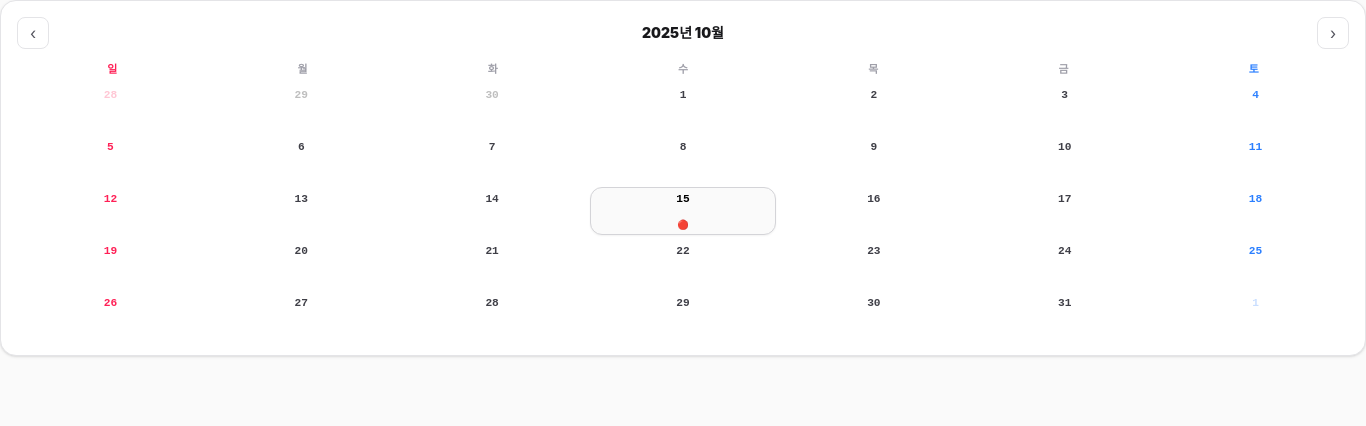
Test case: TradeCalendar › navigates months when clicking next/prev month buttons
Click the button named "다음 달": x=1333, y=33 [1317,17,1349,49]
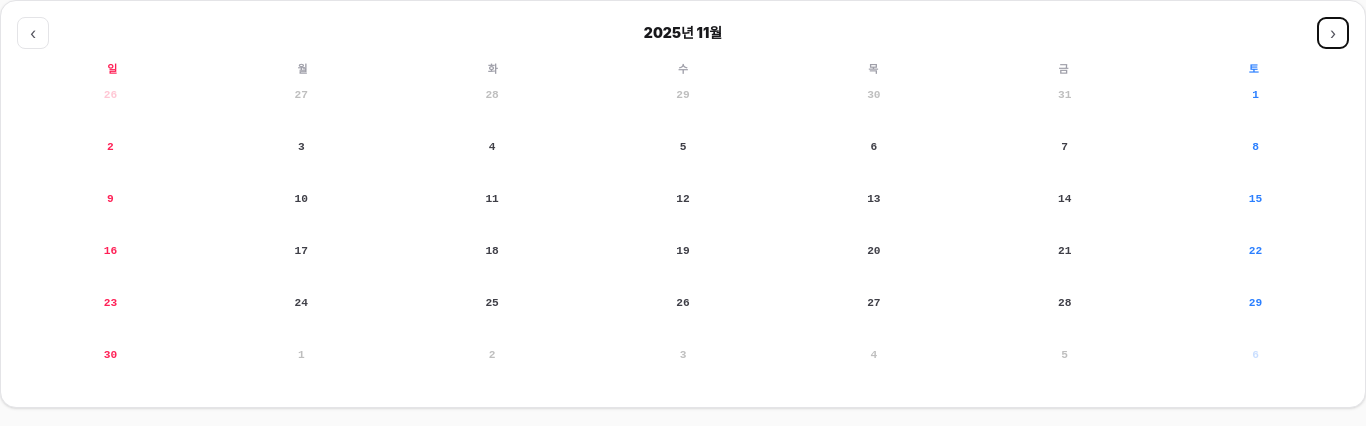
Expected: the text "2025년 11월" is shown, [644,23,722,43]
Click the button named "이전 달": x=33, y=33 [17,17,49,49]
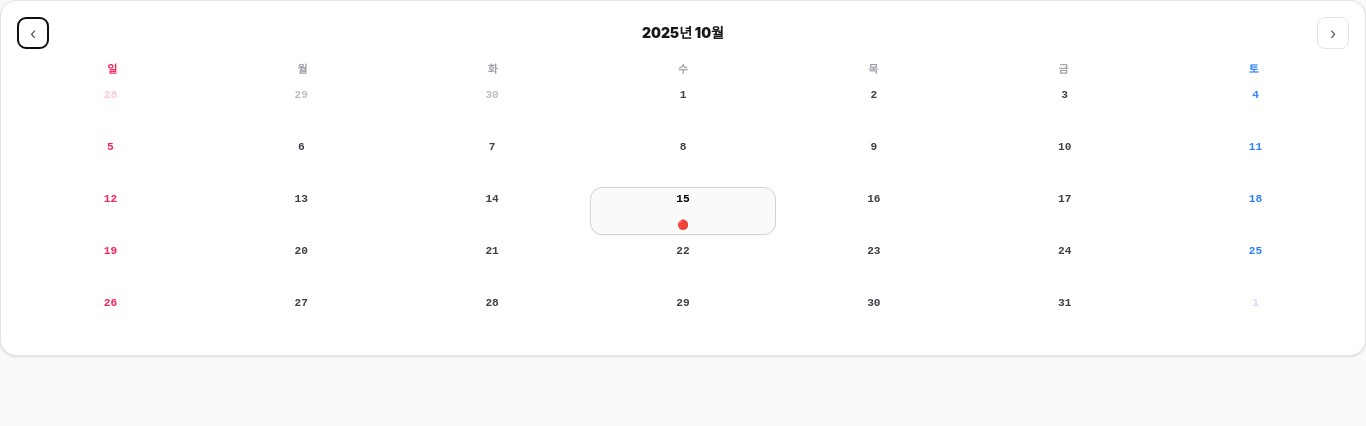
Expected: the text "2025년 10월" is shown, [642,23,724,43]
